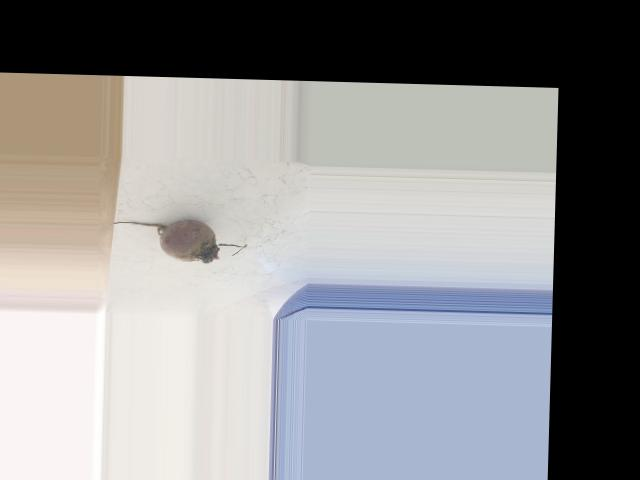beet: (108, 217, 247, 263)
